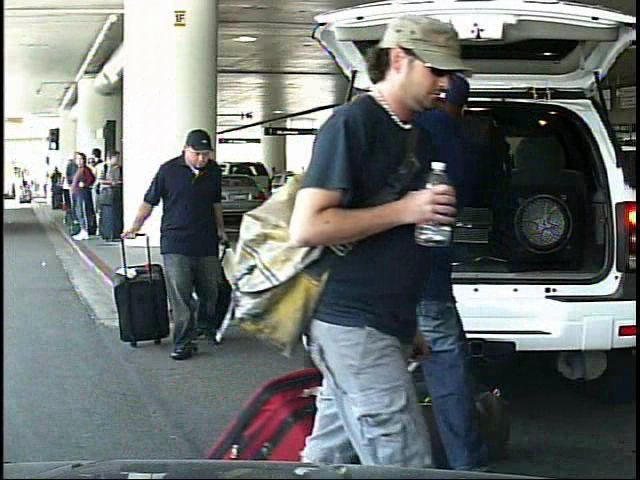person: (269, 15, 463, 472), (331, 64, 518, 476), (118, 125, 244, 362), (13, 174, 24, 205)
